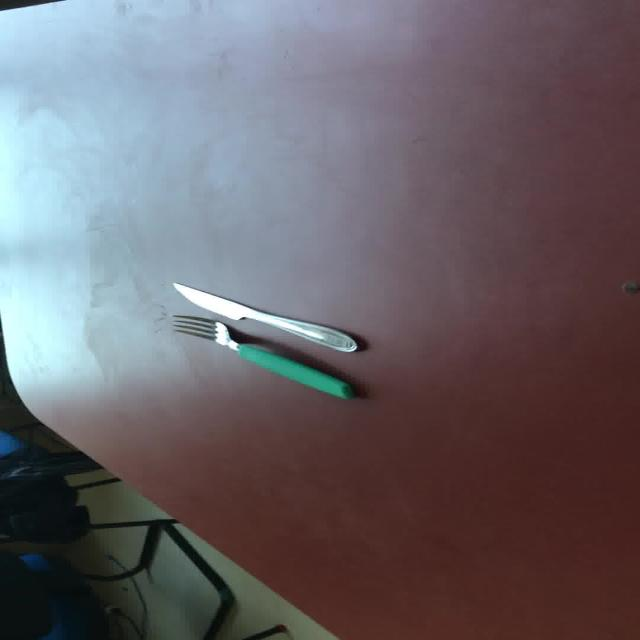fork: (169, 314, 355, 399)
knife fork: (170, 281, 358, 352)
